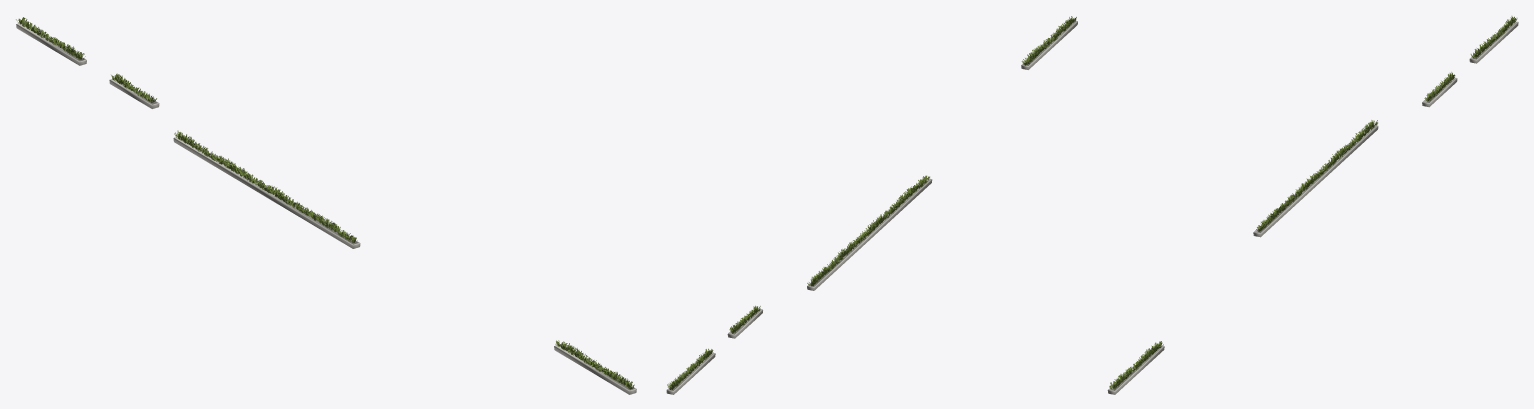
3 views of the same model, side by side, from view 1: azimuth 30°, elevation 25°; view 2: azimuth 150°, elevation 25°; view 3: azimuth 330°, elevation 25° (orthographic). The views are drawn at different scales.
Visible parts, largest first — view 1: geometry_0, geometry_1; view 2: geometry_0, geometry_1; view 3: geometry_0, geometry_1.
Boxes of the visible parts, x1=… form: geometry_0: x1=16, y1=17, x2=634, y2=389; geometry_1: x1=16, y1=23, x2=636, y2=394; geometry_0: x1=667, y1=16, x2=1076, y2=390; geometry_1: x1=666, y1=21, x2=1077, y2=394; geometry_0: x1=1109, y1=16, x2=1517, y2=389; geometry_1: x1=1107, y1=21, x2=1518, y2=394.
Size of the model in its own units: 6.42 by 0.9226 by 62.02.
Materials: 2 (1 with a texture image).
